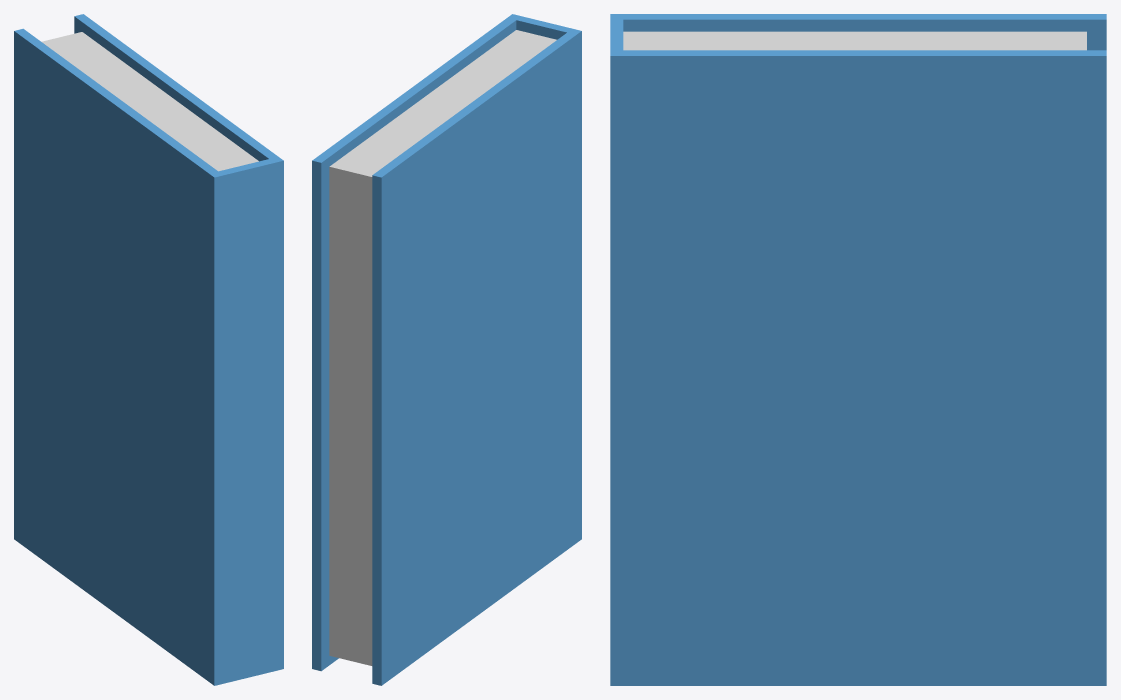
File: book.glb
The picture shows the model from 3 angles, left to right: view 1: azimuth 30°, elevation 25°; view 2: azimuth 150°, elevation 25°; view 3: azimuth 270°, elevation 25°; orthographic projection. The views are drawn at different scales.
Visible parts, largest first — view 1: 立方体; view 2: 立方体; view 3: 立方体.
Part boxes in pixels (box(x1,y1,x2,y2)): 立方体: box(14, 14, 283, 685); 立方体: box(312, 14, 581, 685); 立方体: box(610, 14, 1106, 685).
Bounding box in the file's own units: 0.03 × 0.21 × 0.15.
